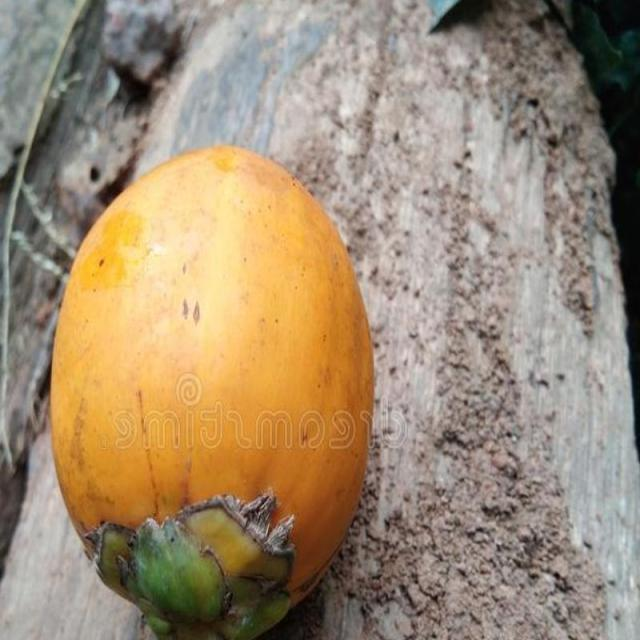good: (49, 145, 375, 639)
